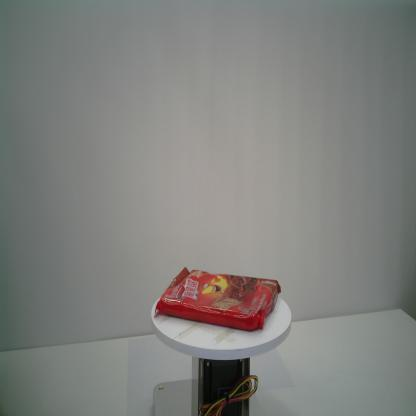Dessert: (153, 265, 282, 332)
